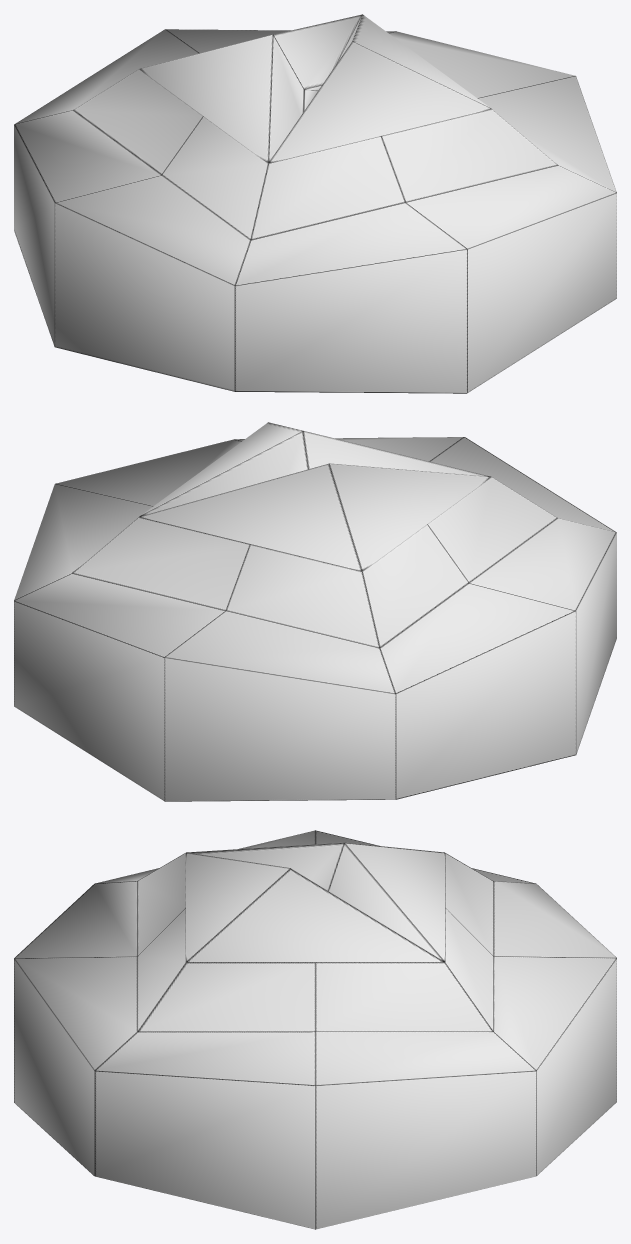
The model's file is Jewel.fbx.
The picture shows the model from 3 angles, top to bottom: view 1: azimuth 30°, elevation 25°; view 2: azimuth 150°, elevation 25°; view 3: azimuth 270°, elevation 25°; orthographic projection.
Parts seen in each view (by area): view 1: Plane.001; view 2: Plane.001; view 3: Plane.001.
Boxes of the visible parts, left/top/right/bottom form: Plane.001: left=14, top=14, right=616, bottom=393; Plane.001: left=14, top=422, right=616, bottom=801; Plane.001: left=14, top=830, right=616, bottom=1229.
Bounding box in the file's own units: 0.9564 × 0.4305 × 0.9564.
